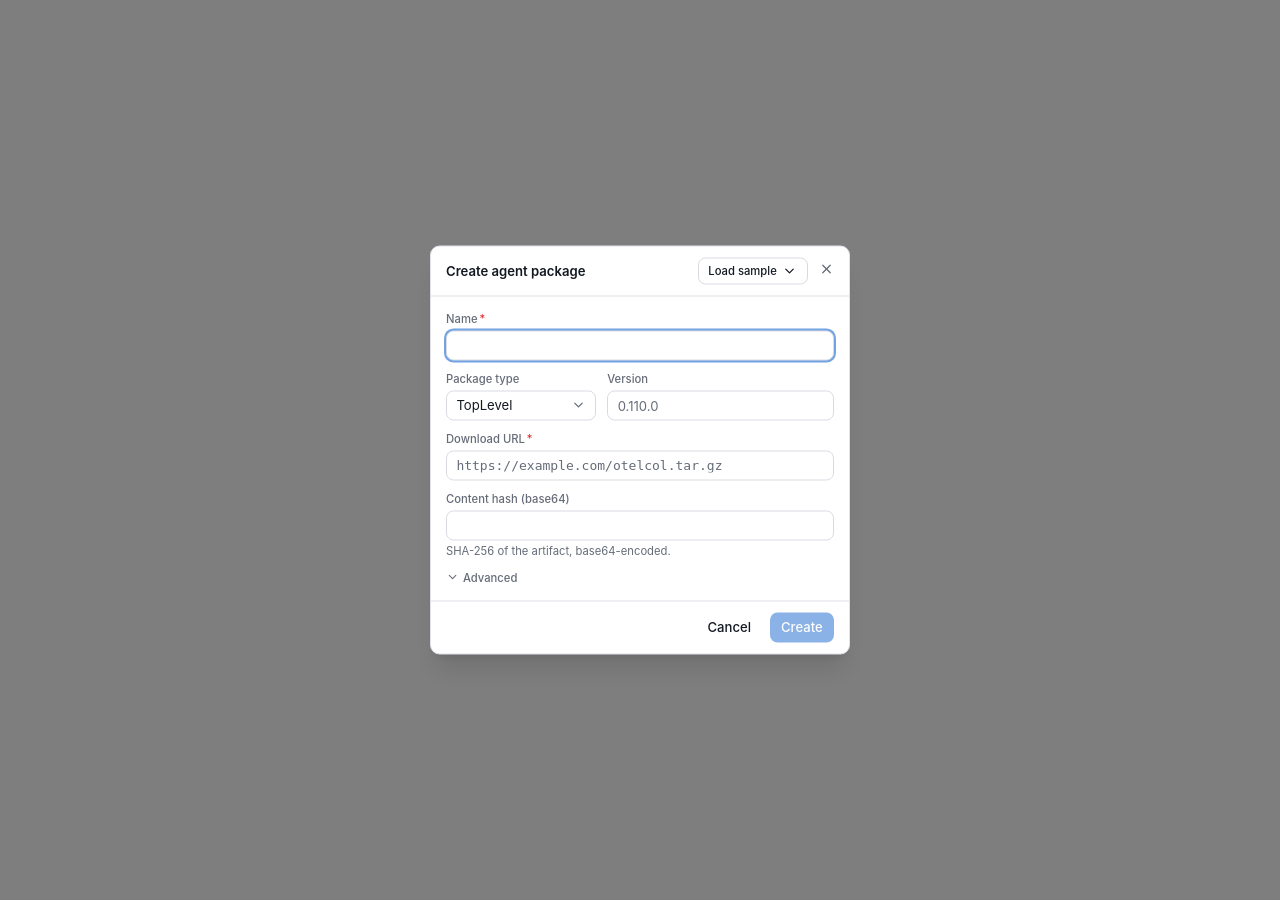
AgentPackageEditDialog › rejects a hex digest pasted into a base64 field
Type "pkg" into the field labelled "Name" at (640, 345), box x1=446 y1=330 x2=834 y2=360
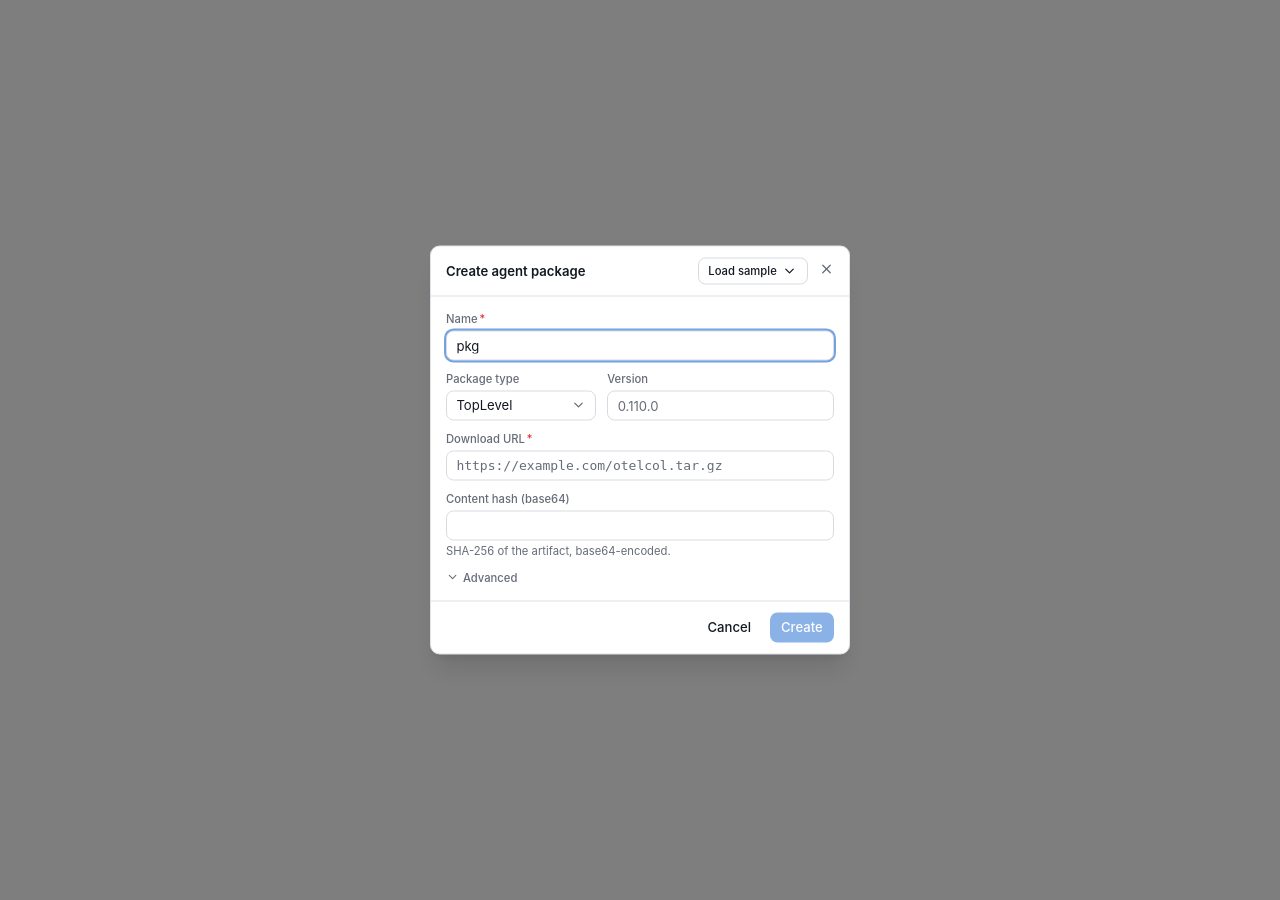
Type "https://example.com/a.tgz" into the field labelled "Download URL" at (640, 465), box x1=446 y1=450 x2=834 y2=480
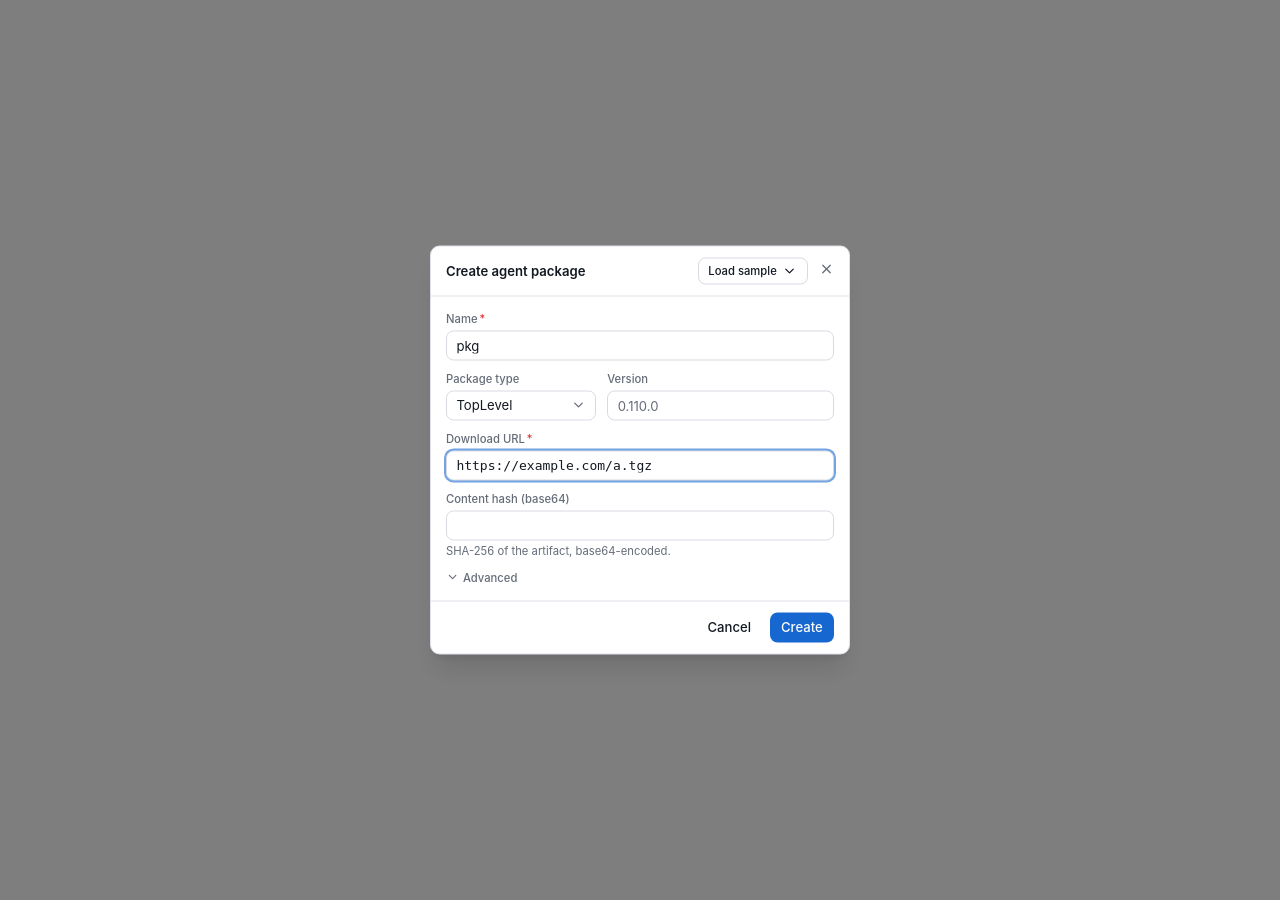
Type "deadbeef0" into the field labelled "Content hash (base64)" at (640, 525), box x1=446 y1=510 x2=834 y2=540
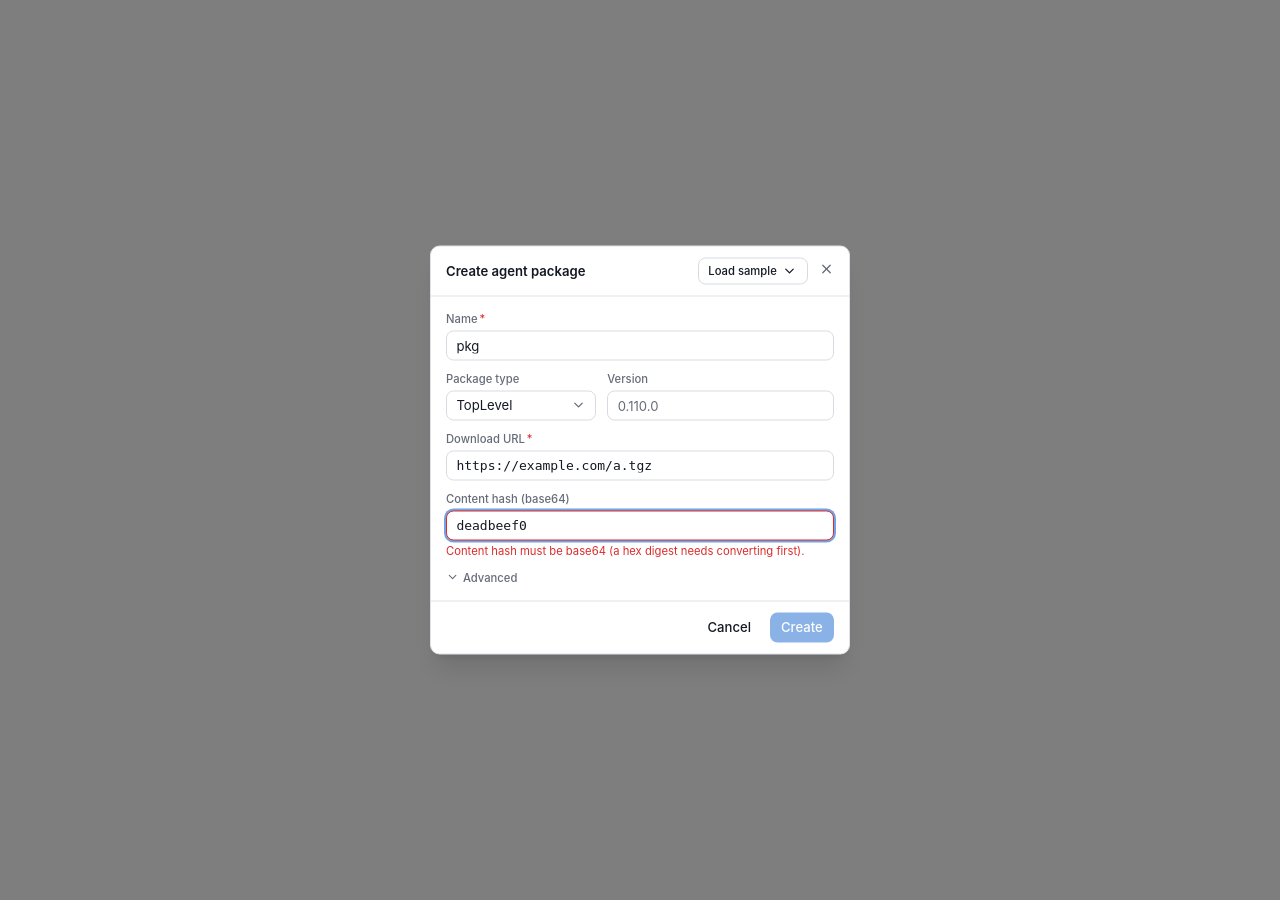
Now the text "Content hash must be base64 (a hex digest needs converting first)" is shown, box x1=446 y1=544 x2=804 y2=558
Now the button "Create" is disabled, box x1=770 y1=612 x2=834 y2=642
